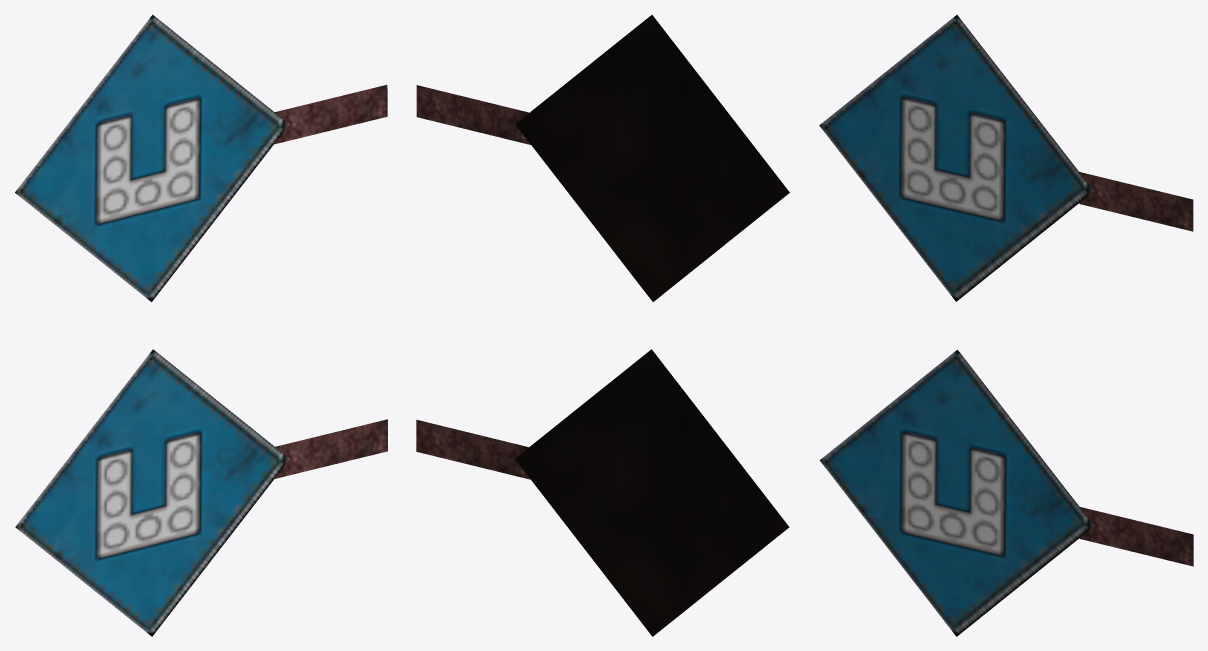
Rendered from sigznak_NV3r.gltf.
The picture shows the model from 3 angles, left to right: view 1: azimuth 30°, elevation 25°; view 2: azimuth 150°, elevation 25°; view 3: azimuth 330°, elevation 25°; orthographic projection.
Bounding box in the file's own units: 0.8686 × 1.38 × 0.00291.
Materials: 1 (1 with a texture image).
